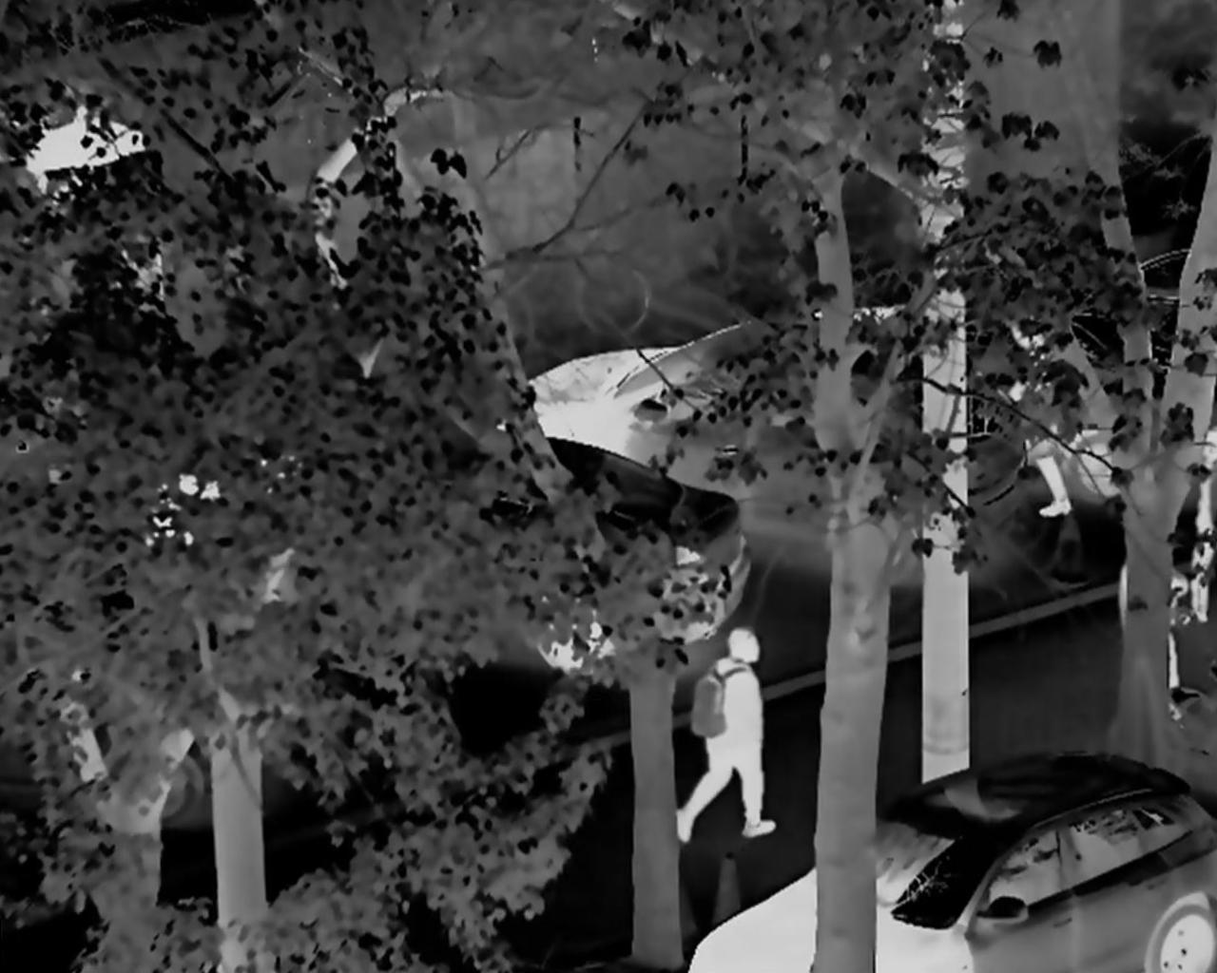person: (671, 624, 777, 852), (1120, 539, 1186, 721), (1185, 415, 1217, 628)
